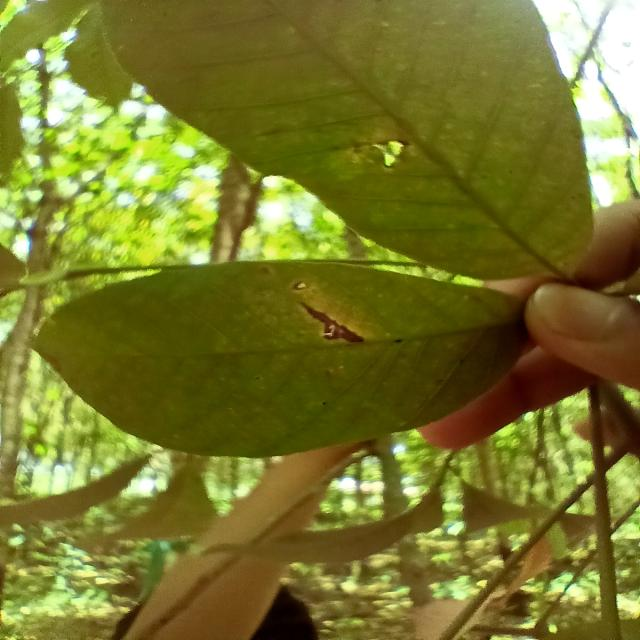Corynespora: (299, 298, 364, 342)
